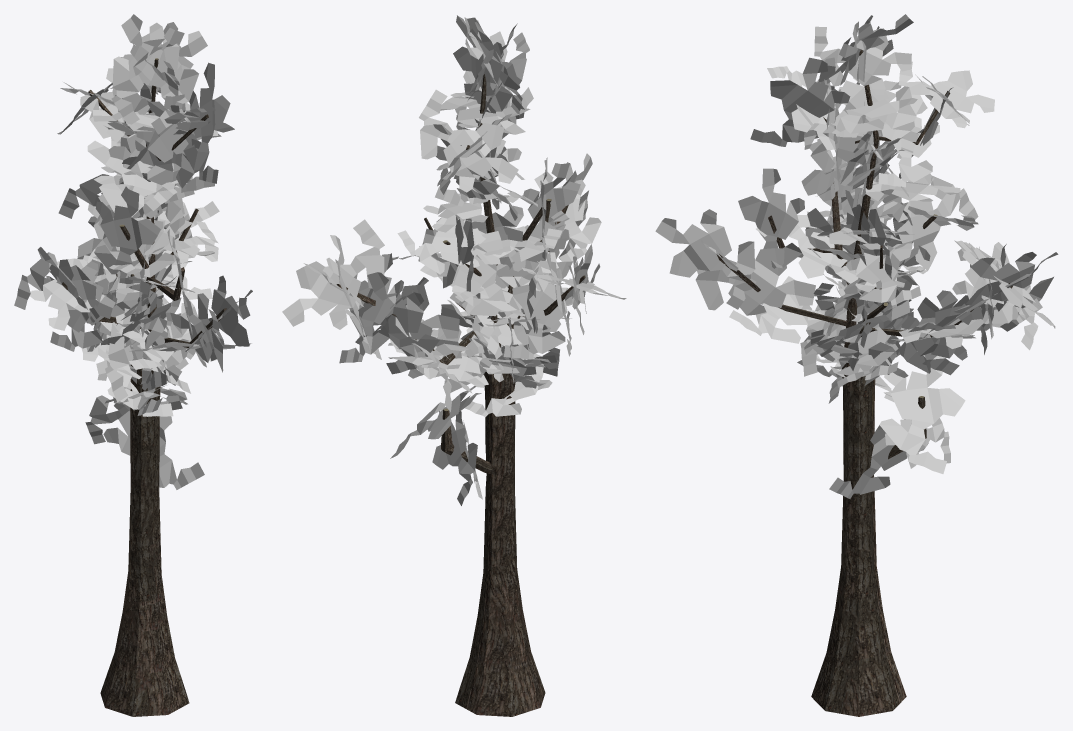
Rendered from Tree001.obj.
3 views of the same model, side by side, from view 1: azimuth 30°, elevation 25°; view 2: azimuth 150°, elevation 25°; view 3: azimuth 270°, elevation 25° (orthographic). The views are drawn at different scales.
Parts seen in each view (by area): view 1: Tree_Branch, Cylinder; view 2: Tree_Branch, Cylinder; view 3: Tree_Branch, Cylinder.
Boxes of the visible parts, box(x1,y1,x2,y2) form: Tree_Branch: box(14, 14, 252, 489); Cylinder: box(62, 58, 226, 716); Tree_Branch: box(282, 15, 626, 505); Cylinder: box(336, 74, 585, 716); Tree_Branch: box(655, 14, 1058, 498); Cylinder: box(716, 50, 1012, 716).
Size of the model in its own units: 5.96 by 15.84 by 8.39.
